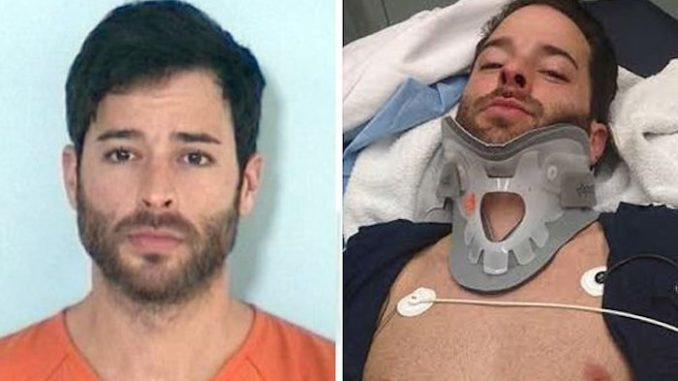bad: (81, 116, 236, 270), (454, 24, 583, 153)
